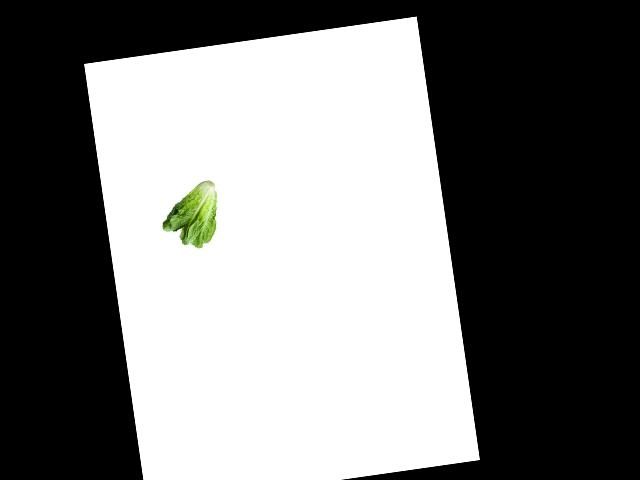lettuce: (153, 175, 229, 253)
